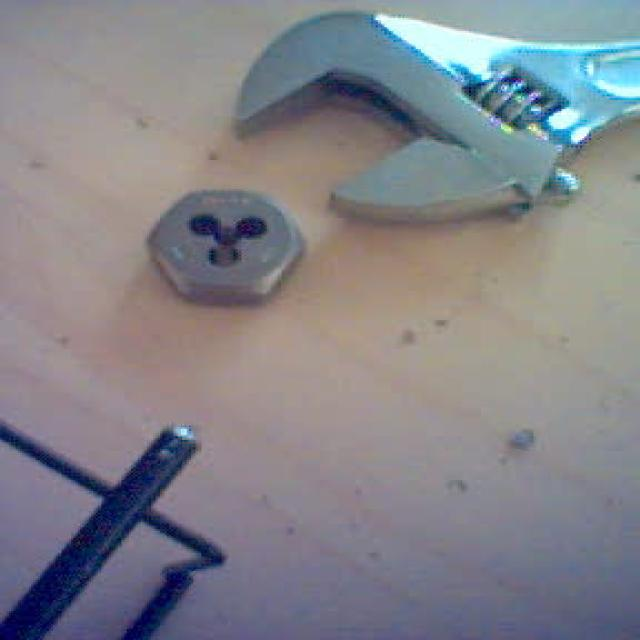wrench: (238, 0, 640, 247)
